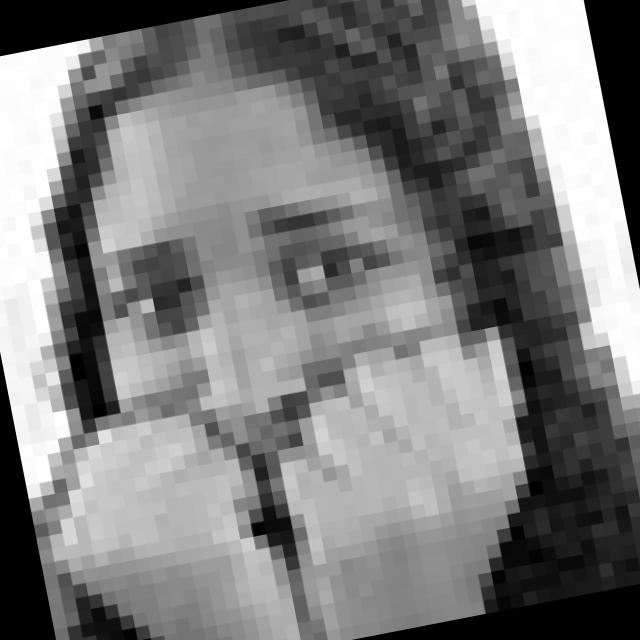fear: (88, 187, 457, 553)
